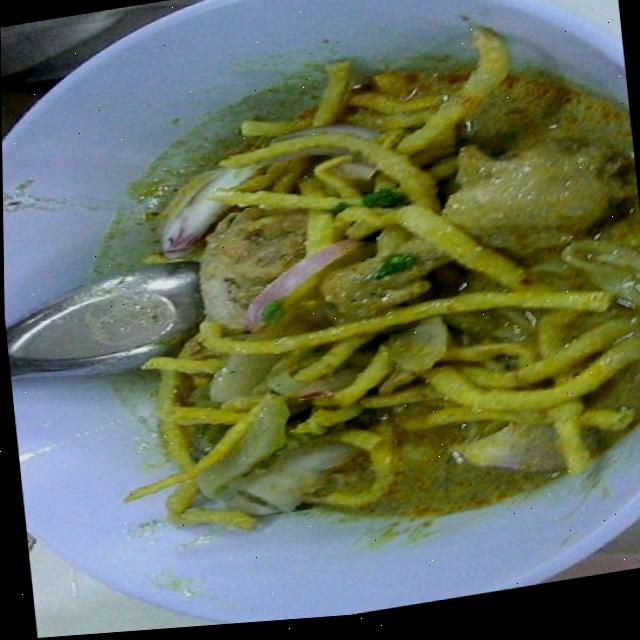面条主食: (47, 31, 640, 567)
